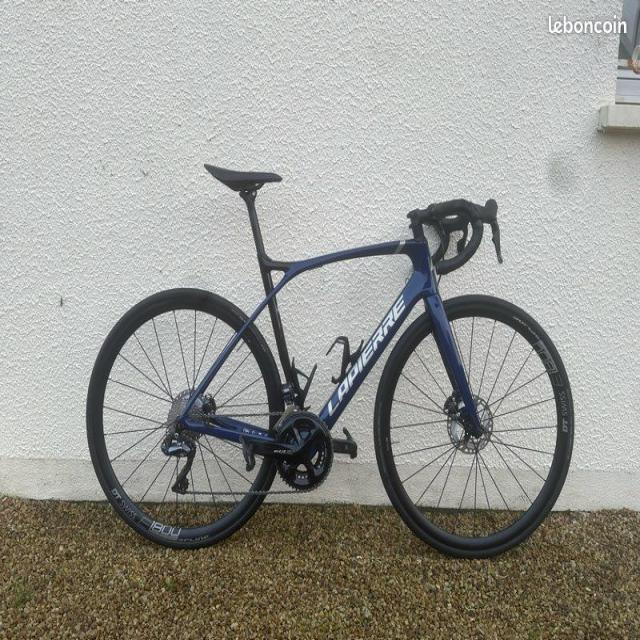Bike: (85, 163, 575, 561)
